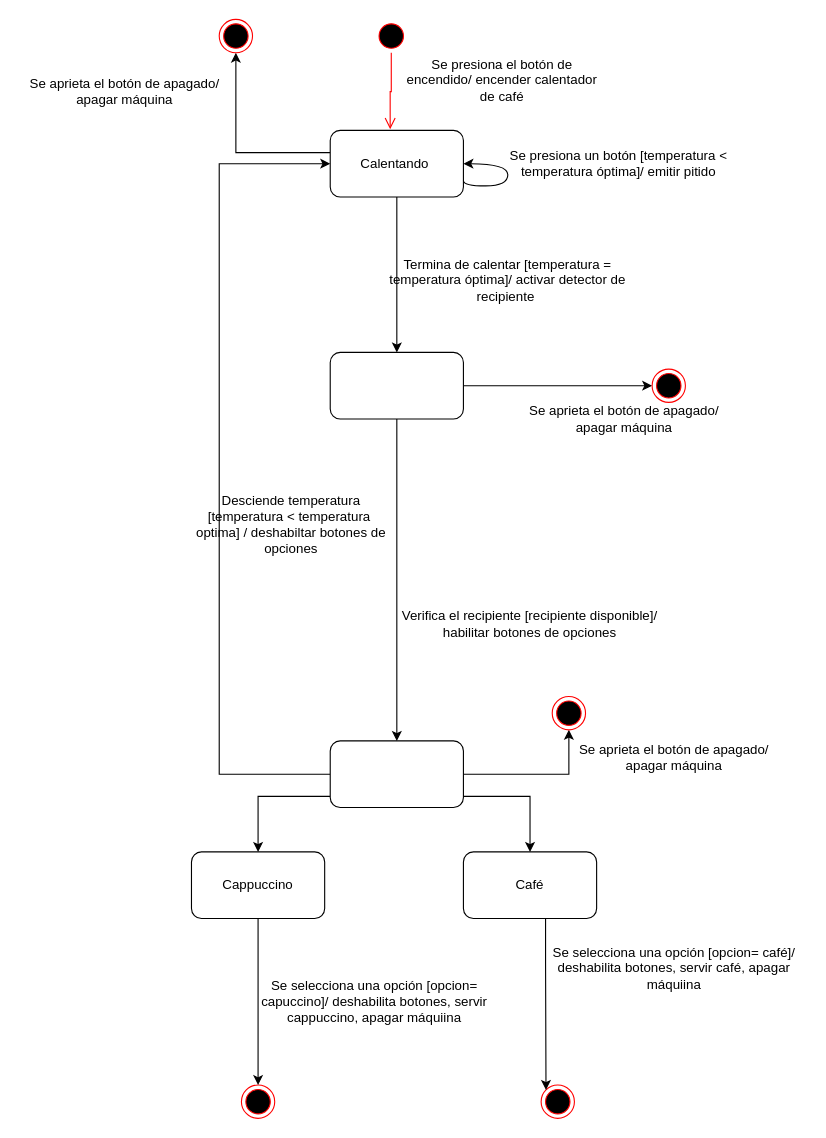
The diagram is 826 pixels wide and 1138 high, and some of its shapes have lost their labels. Each missing label, with the box of its shape:
Esperando selección: (329, 740, 463, 808)
Verificando recipiente: (329, 351, 463, 419)
